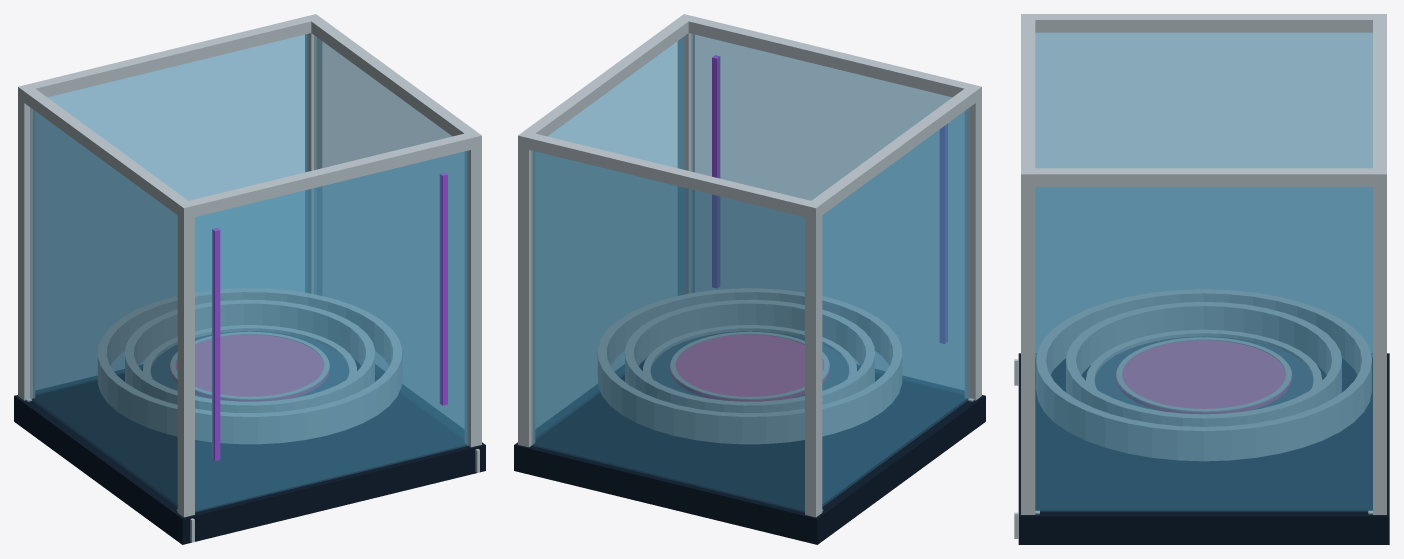
Rendered from 44_L74_VirtualPhotoresistDeveloperModule.fbx.
3 views of the same model, side by side, from view 1: azimuth 30°, elevation 25°; view 2: azimuth 150°, elevation 25°; view 3: azimuth 270°, elevation 25° (orthographic). The views are drawn at different scales.
Visible parts, largest first — view 1: VirtualPhotoresistDeveloperModule, VirtualPhotoresistDeveloperModule_Part_0025, VirtualPhotoresistDeveloperModule_Part_0023, VirtualPhotoresistDeveloperModule_Part_0024, VirtualPhotoresistDeveloperModule_Part_0026; view 2: VirtualPhotoresistDeveloperModule, VirtualPhotoresistDeveloperModule_Part_0025, VirtualPhotoresistDeveloperModule_Part_0023, VirtualPhotoresistDeveloperModule_Part_0024, VirtualPhotoresistDeveloperModule_Part_0026; view 3: VirtualPhotoresistDeveloperModule, VirtualPhotoresistDeveloperModule_Part_0025, VirtualPhotoresistDeveloperModule_Part_0023, VirtualPhotoresistDeveloperModule_Part_0024, VirtualPhotoresistDeveloperModule_Part_0026.
Boxes of the visible parts, x1,y1,x2,y2 form: VirtualPhotoresistDeveloperModule: (14, 14, 485, 544); VirtualPhotoresistDeveloperModule_Part_0025: (170, 335, 329, 401); VirtualPhotoresistDeveloperModule_Part_0023: (151, 331, 348, 397); VirtualPhotoresistDeveloperModule_Part_0024: (143, 325, 356, 378); VirtualPhotoresistDeveloperModule_Part_0026: (170, 332, 329, 399); VirtualPhotoresistDeveloperModule: (514, 14, 985, 544); VirtualPhotoresistDeveloperModule_Part_0025: (670, 335, 829, 401); VirtualPhotoresistDeveloperModule_Part_0023: (651, 331, 848, 397); VirtualPhotoresistDeveloperModule_Part_0024: (643, 325, 856, 378); VirtualPhotoresistDeveloperModule_Part_0026: (670, 332, 829, 399); VirtualPhotoresistDeveloperModule: (1014, 14, 1389, 544); VirtualPhotoresistDeveloperModule_Part_0025: (1116, 340, 1291, 413); VirtualPhotoresistDeveloperModule_Part_0023: (1095, 336, 1313, 409); VirtualPhotoresistDeveloperModule_Part_0024: (1086, 330, 1321, 388); VirtualPhotoresistDeveloperModule_Part_0026: (1116, 337, 1291, 411).
Size of the model in its own units: 232 by 245 by 226.
